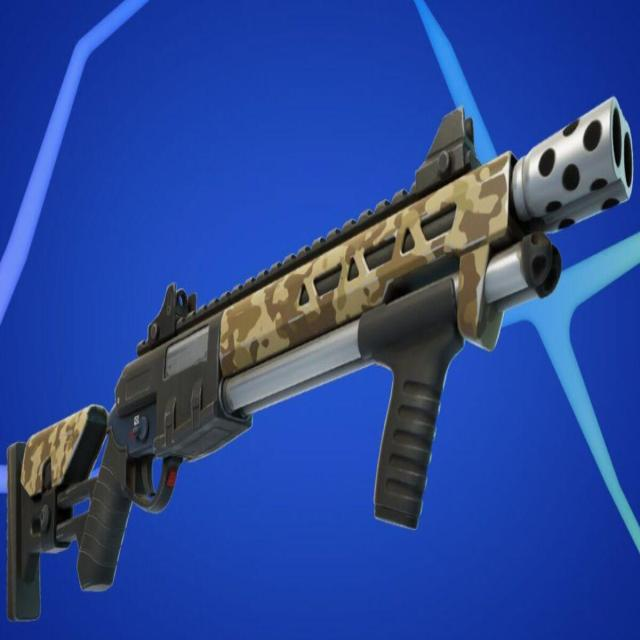weapon: (3, 82, 638, 630)
